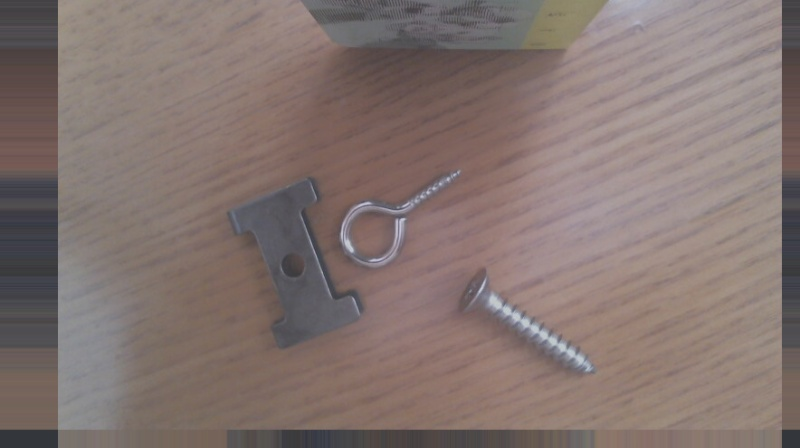O001: (337, 165, 464, 270)
O002: (224, 174, 364, 351)
S001: (456, 264, 602, 378)
